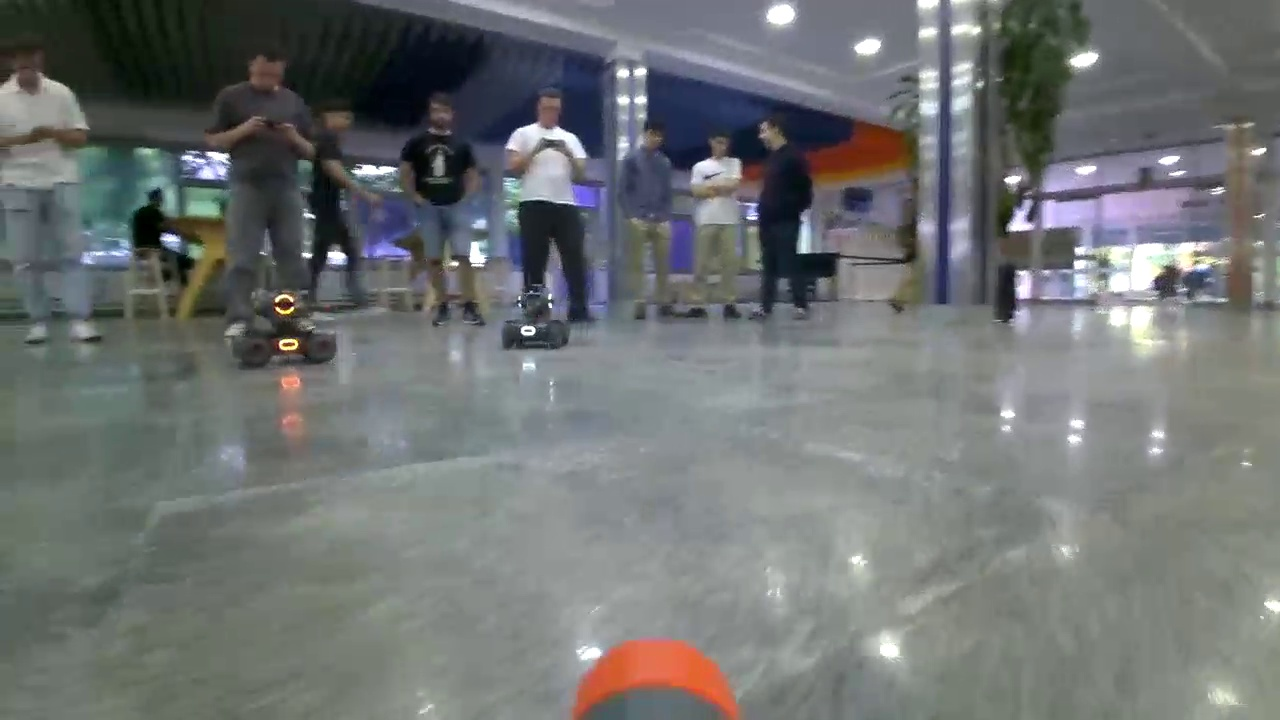robot: (229, 289, 338, 366), (501, 290, 570, 348)
